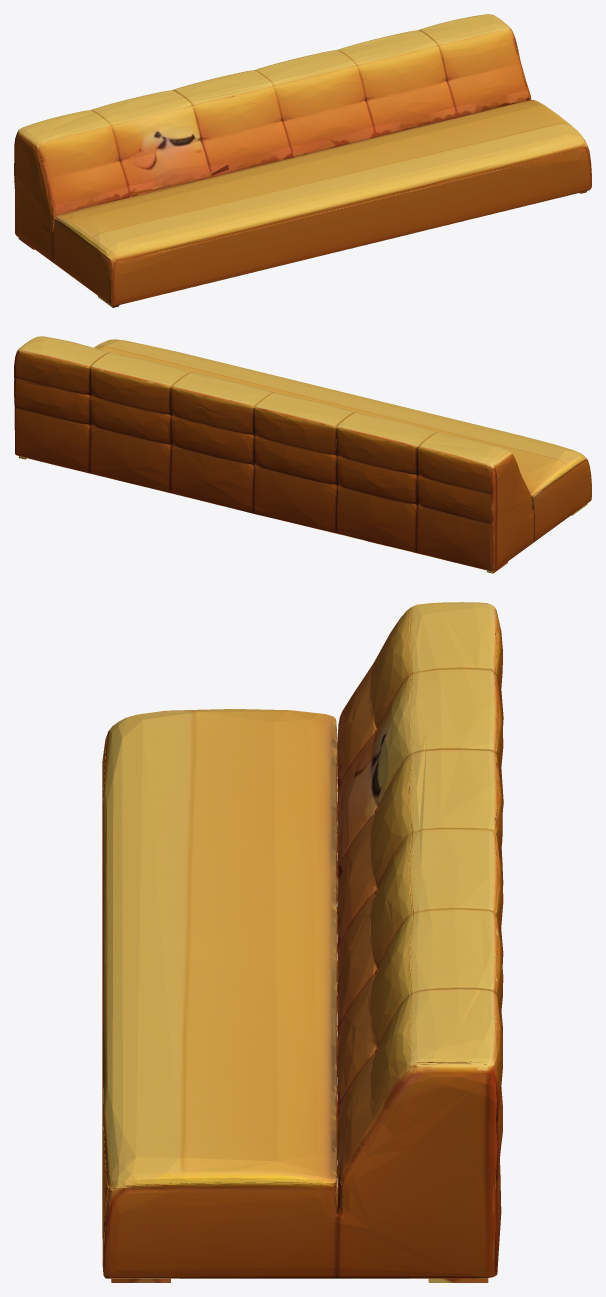
File: edited_mesh.glb
3 renders of one model, top to bottom at view 1: azimuth 30°, elevation 25°; view 2: azimuth 150°, elevation 25°; view 3: azimuth 270°, elevation 25°, orthographic. The views are drawn at different scales.
Visible parts, largest first — view 1: solid_001_wire; view 2: solid_001_wire; view 3: solid_001_wire.
Boxes of the visible parts, <box> form: solid_001_wire: <box>14,14,591,307</box>; solid_001_wire: <box>14,336,591,573</box>; solid_001_wire: <box>102,602,503,1282</box>.
Size of the model in its own units: 2 by 0.4446 by 0.7213.
Materials: 1 (1 with a texture image).
